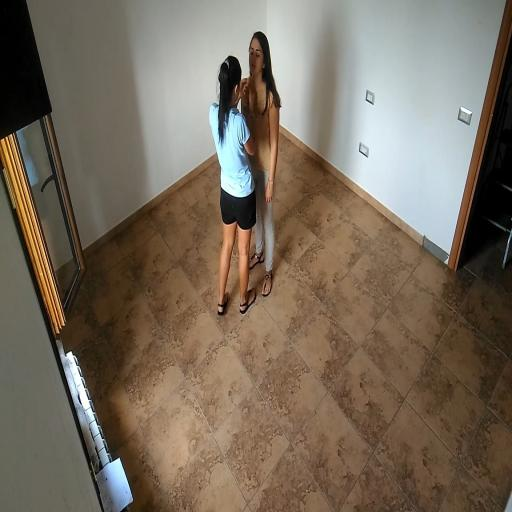nao-violencia: (207, 23, 294, 325)
